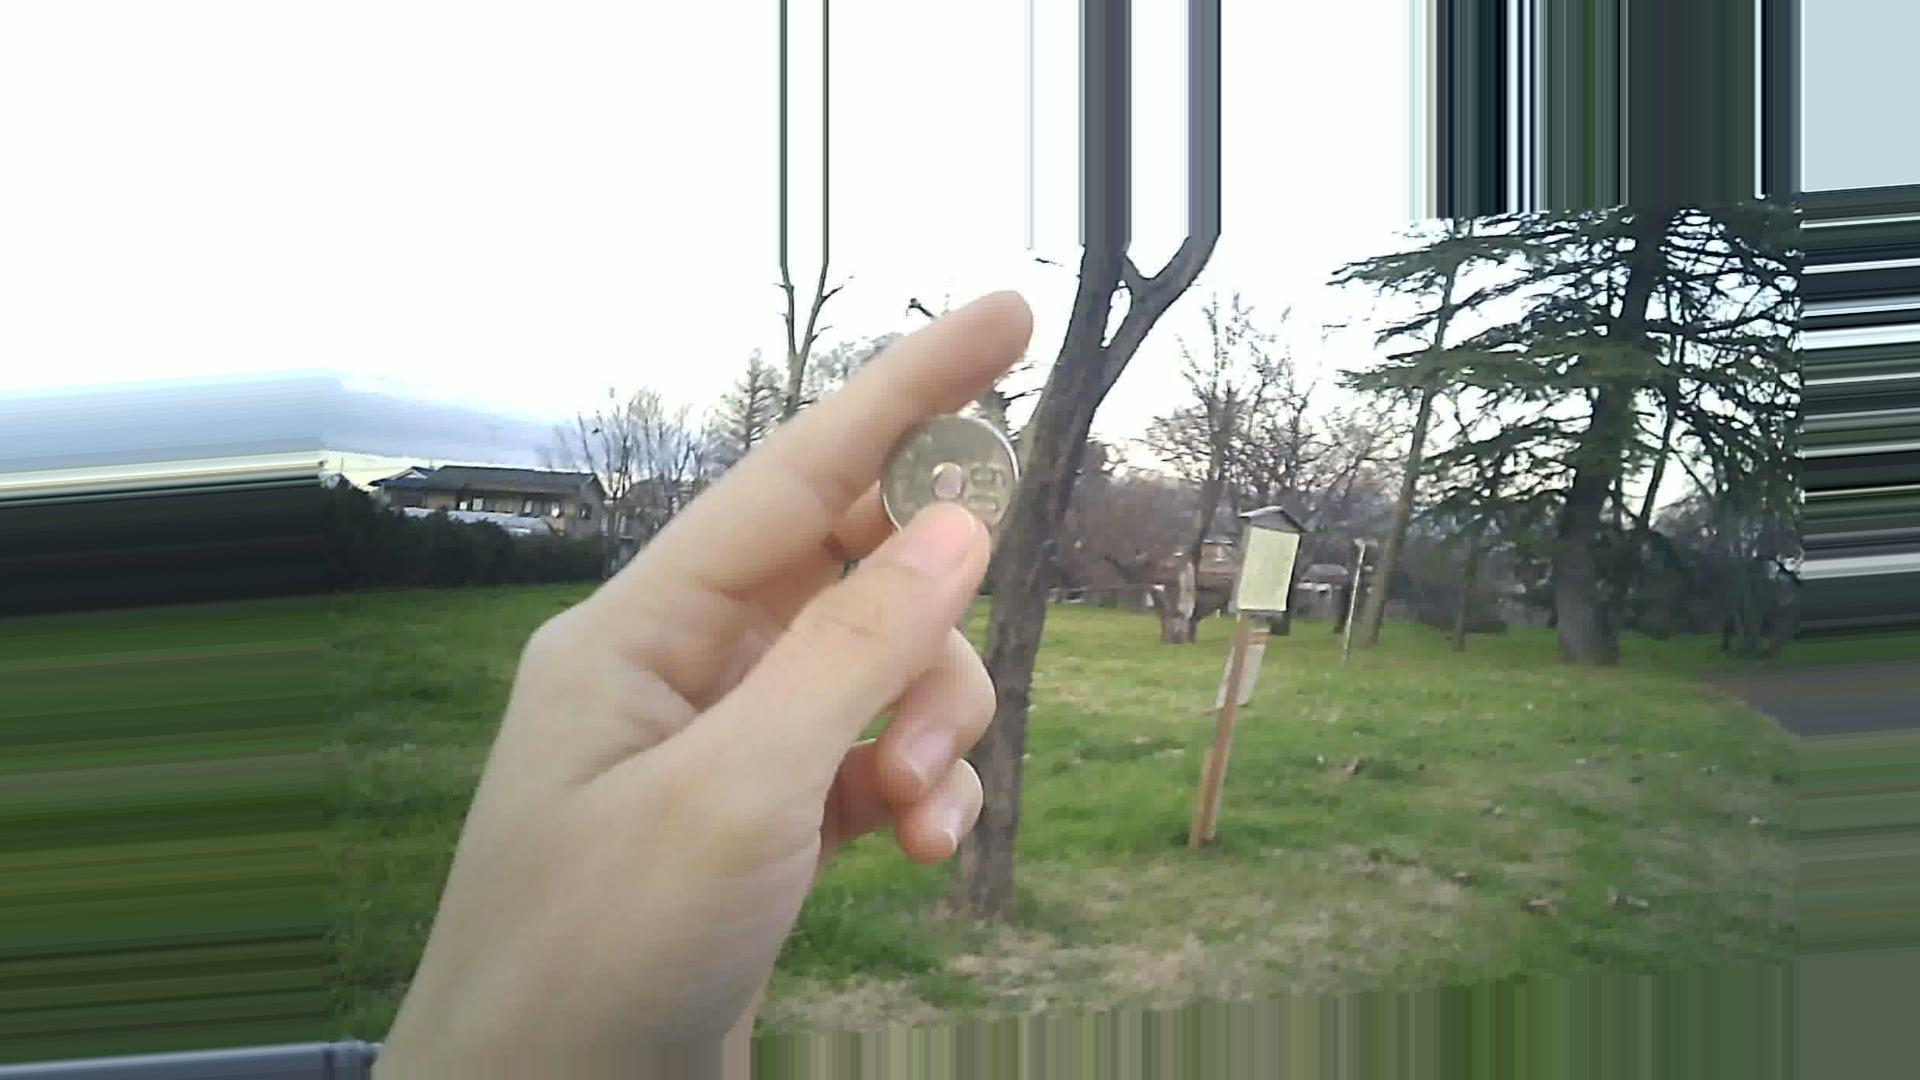50 Yen: (872, 413, 1029, 547)
